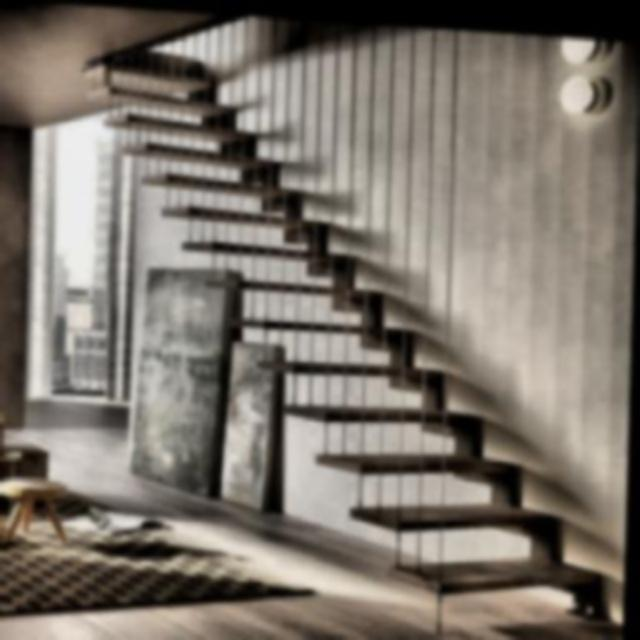stair: (251, 194, 611, 578)
